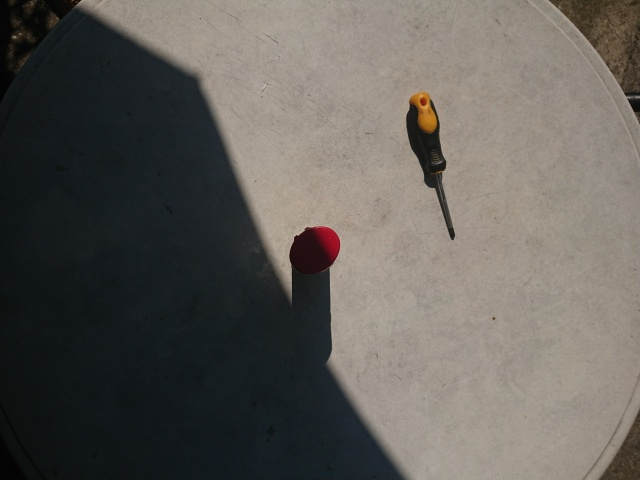Kotanyi Curry Spices Mix 70g: (288, 223, 342, 278)
